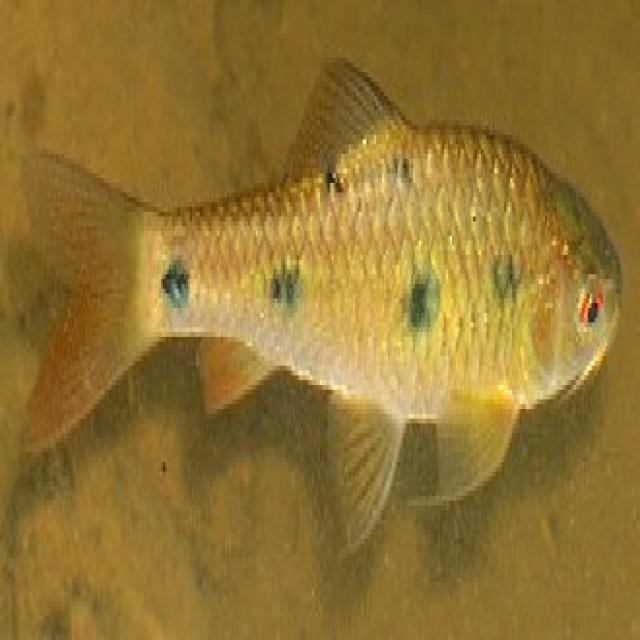Black-Spotted-Barb: (3, 46, 640, 539)
